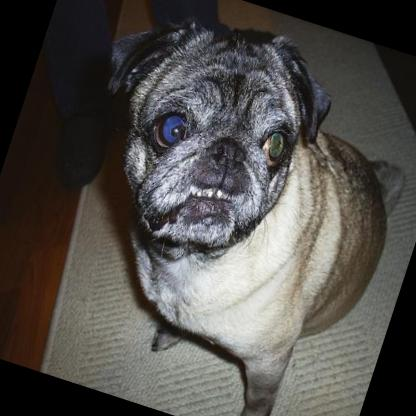pug: (8, 0, 416, 416)
